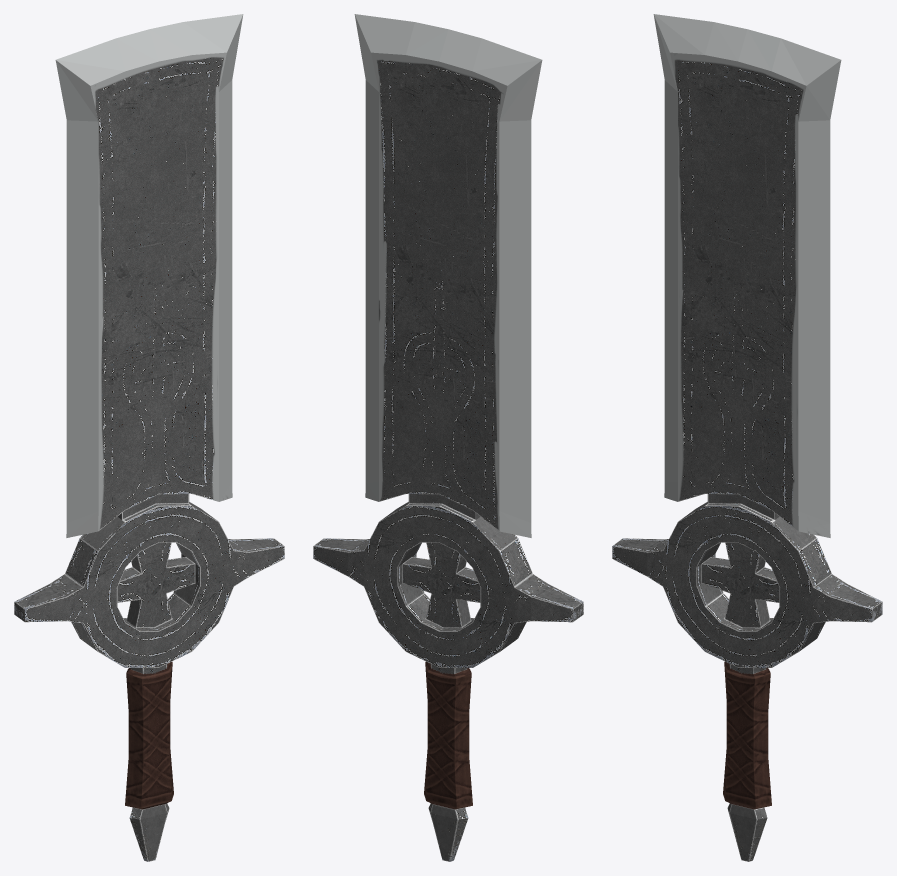
File: Executor Sword.fbx
The picture shows the model from 3 angles, left to right: view 1: azimuth 30°, elevation 25°; view 2: azimuth 150°, elevation 25°; view 3: azimuth 330°, elevation 25°; orthographic projection.
Visible parts, largest first — view 1: Executor_Sword; view 2: Executor_Sword; view 3: Executor_Sword.
Part boxes in pixels (left/top/right/bottom): Executor_Sword: left=14, top=14, right=284, bottom=861; Executor_Sword: left=313, top=14, right=583, bottom=861; Executor_Sword: left=612, top=14, right=882, bottom=861.
Bounding box in the file's own units: 110 × 337 × 13.55.
